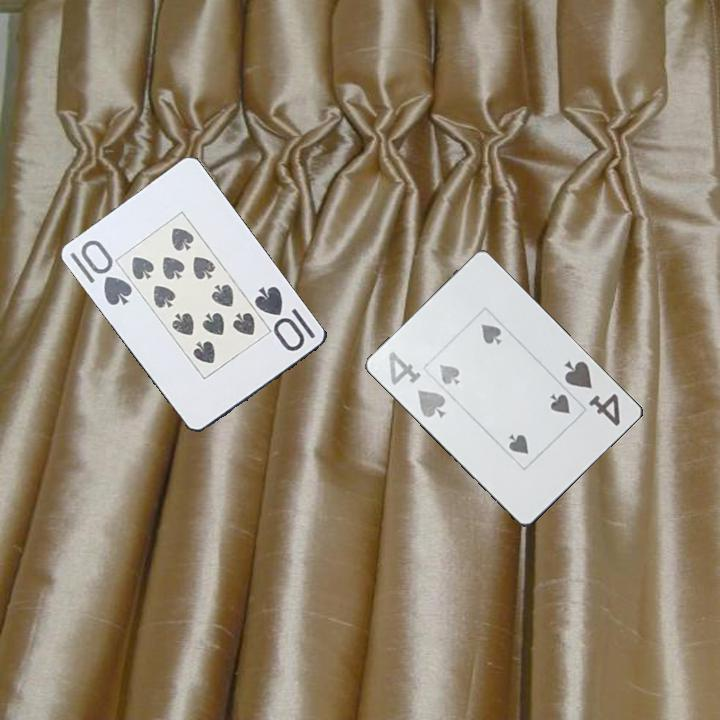4s: (384, 348, 450, 421), (561, 354, 624, 429)
Ts: (67, 236, 136, 309), (251, 282, 319, 355)
